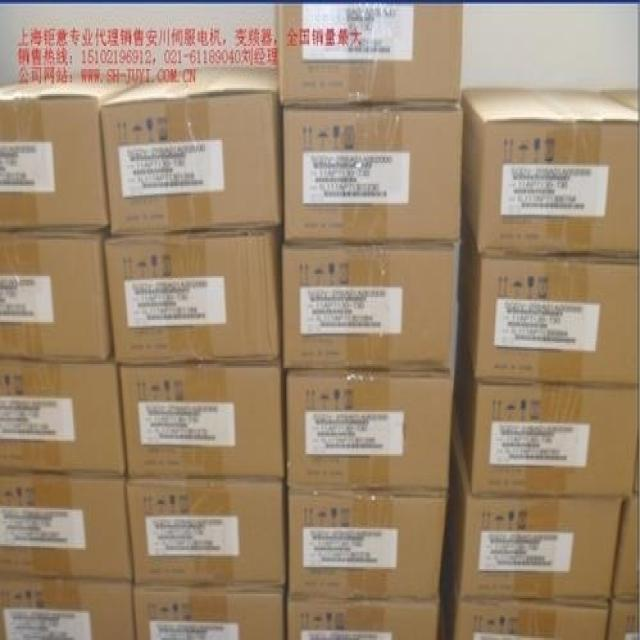box: (445, 395, 623, 601), (454, 321, 638, 498), (458, 216, 638, 384), (101, 69, 282, 234), (461, 90, 638, 258), (283, 104, 463, 244), (103, 229, 281, 363), (0, 76, 147, 231), (282, 242, 455, 370), (285, 369, 453, 490), (120, 360, 285, 478), (275, 4, 463, 106), (288, 488, 448, 601), (439, 533, 610, 638), (126, 477, 286, 584), (0, 353, 127, 477), (0, 225, 113, 362), (0, 472, 133, 580), (0, 575, 135, 638), (132, 584, 285, 638), (287, 598, 441, 638), (614, 492, 639, 603)
